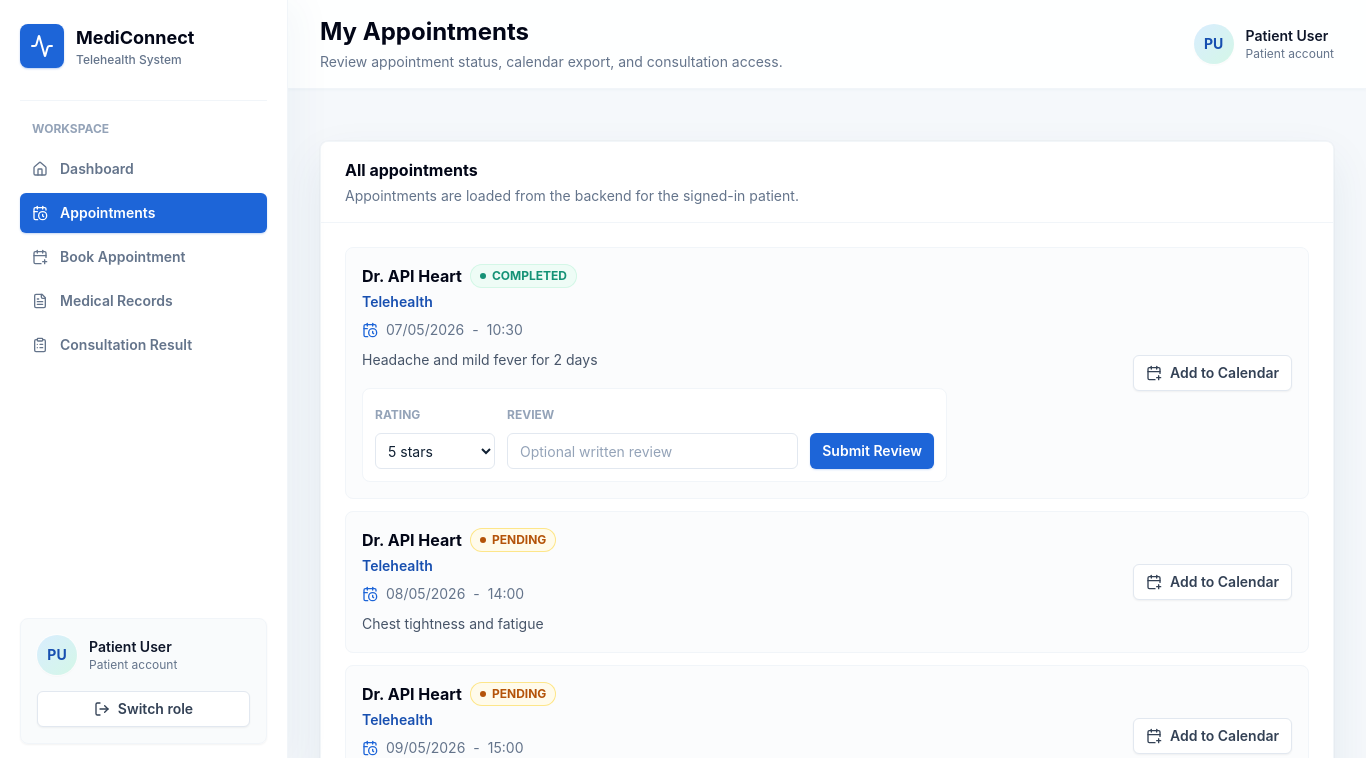
Telehealth frontend routes › lets patients submit a doctor review only from a completed appointment card
Expected: the button "Submit Review" is shown, [810,433,934,469]
Select "5 stars" in the dropdown labelled "Rating": (435, 451) [375,433,495,469]
In the field labelled "Review": (653, 451) [507,433,798,469], type "Doctor explained clearly."
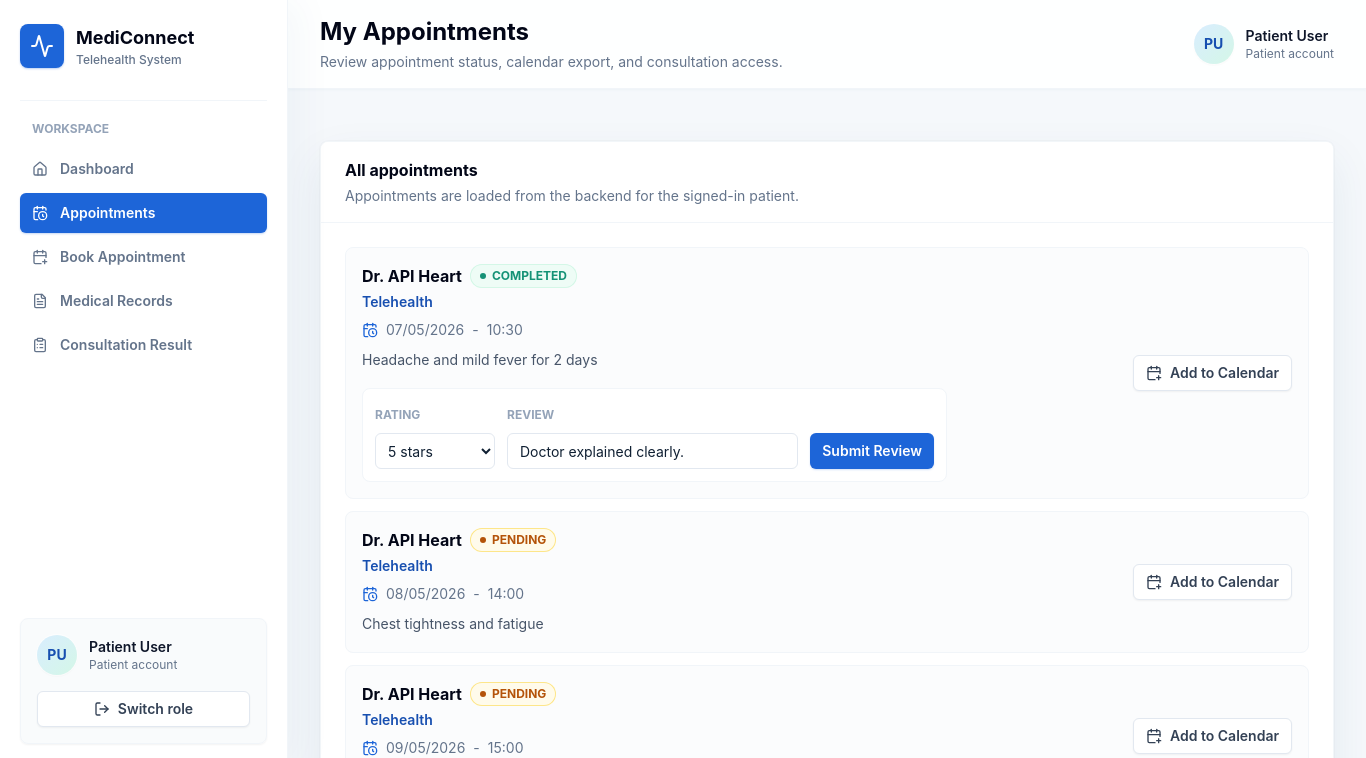
Click the button "Submit Review": (872, 451) [810,433,934,469]
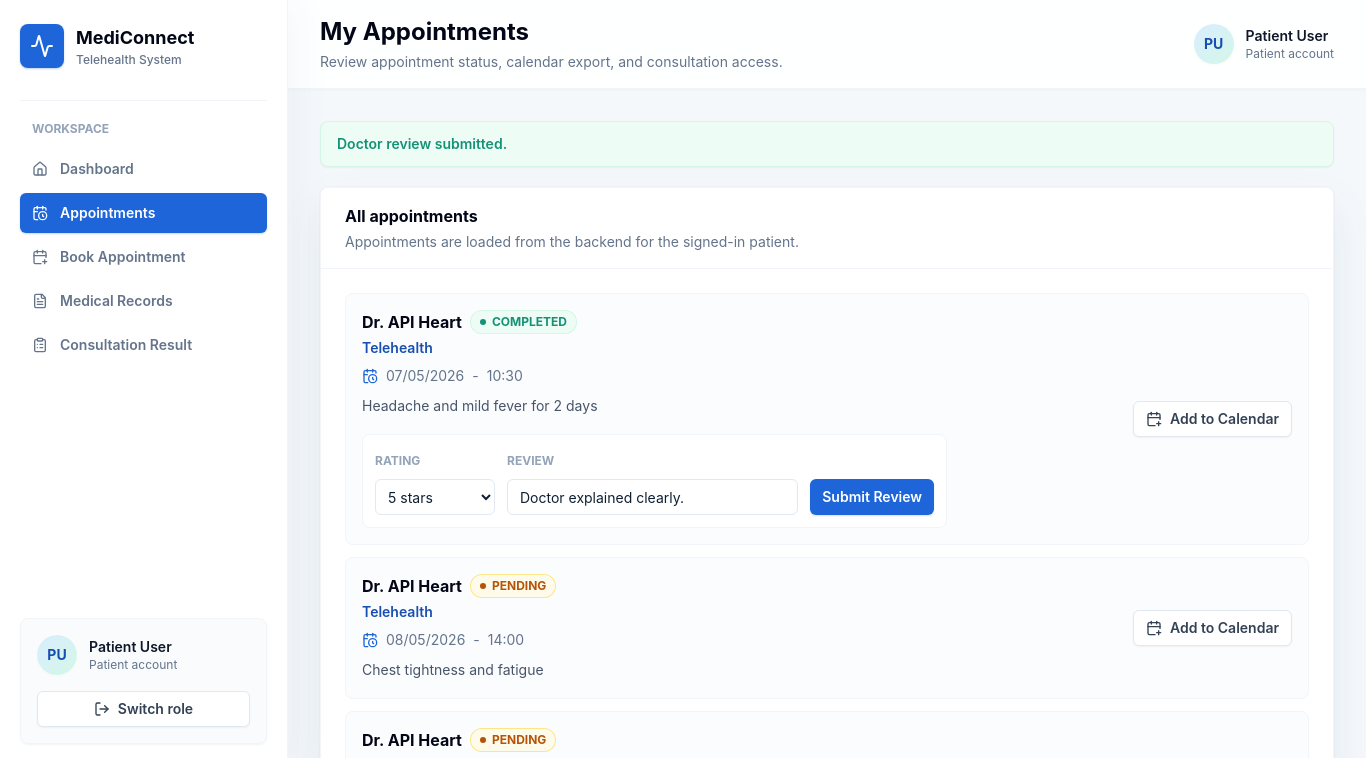
Result: the text "Doctor review submitted." is shown at [320,121,1334,167]
